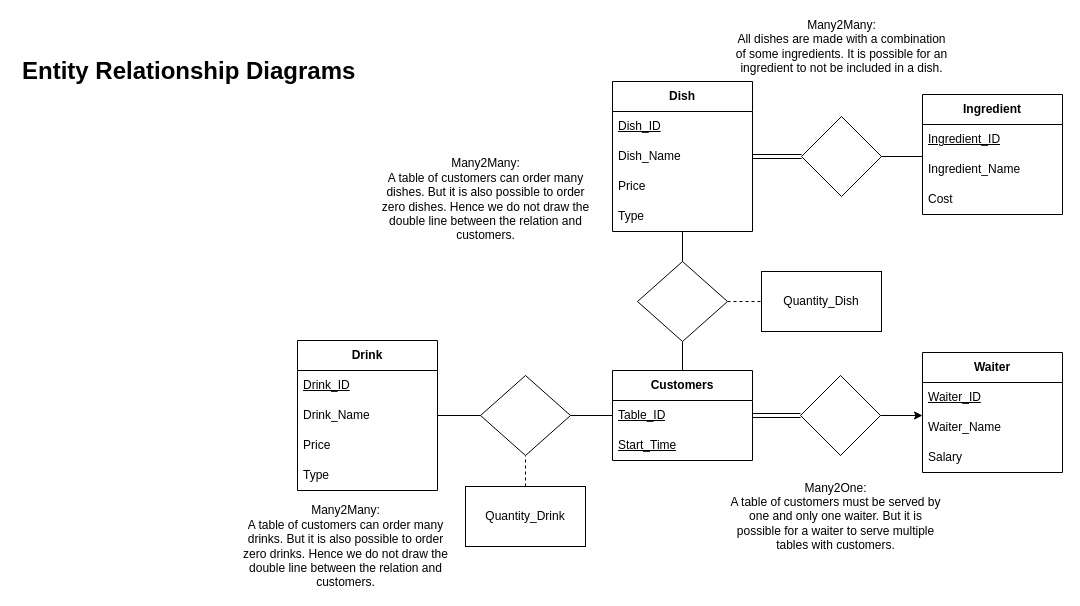
The diagram is 1080 pixels wide and 606 high, and some of its shapes have lost their labels. The centre of each missing label's shape, as x and y in pixels:
Order_Drink: (525,415)
Orders_Dish: (682,301)
Recipe: (841,156)
Serves: (840,415)
